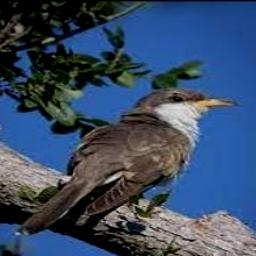Cuckoo: (13, 88, 236, 235)
